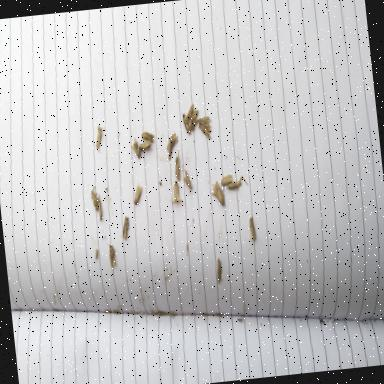pbw: (226, 174, 249, 192), (94, 124, 106, 154), (172, 148, 182, 182), (130, 184, 144, 206), (188, 110, 201, 132), (165, 132, 179, 151), (130, 137, 142, 159), (198, 122, 212, 140), (121, 215, 131, 240), (215, 256, 223, 284), (90, 188, 100, 210), (182, 112, 191, 136), (97, 192, 104, 222), (184, 104, 196, 121), (166, 138, 175, 160), (108, 243, 116, 267), (141, 131, 155, 144), (138, 140, 153, 152), (172, 180, 180, 202), (249, 216, 256, 241), (184, 170, 192, 190), (220, 174, 233, 186), (196, 116, 212, 125)
